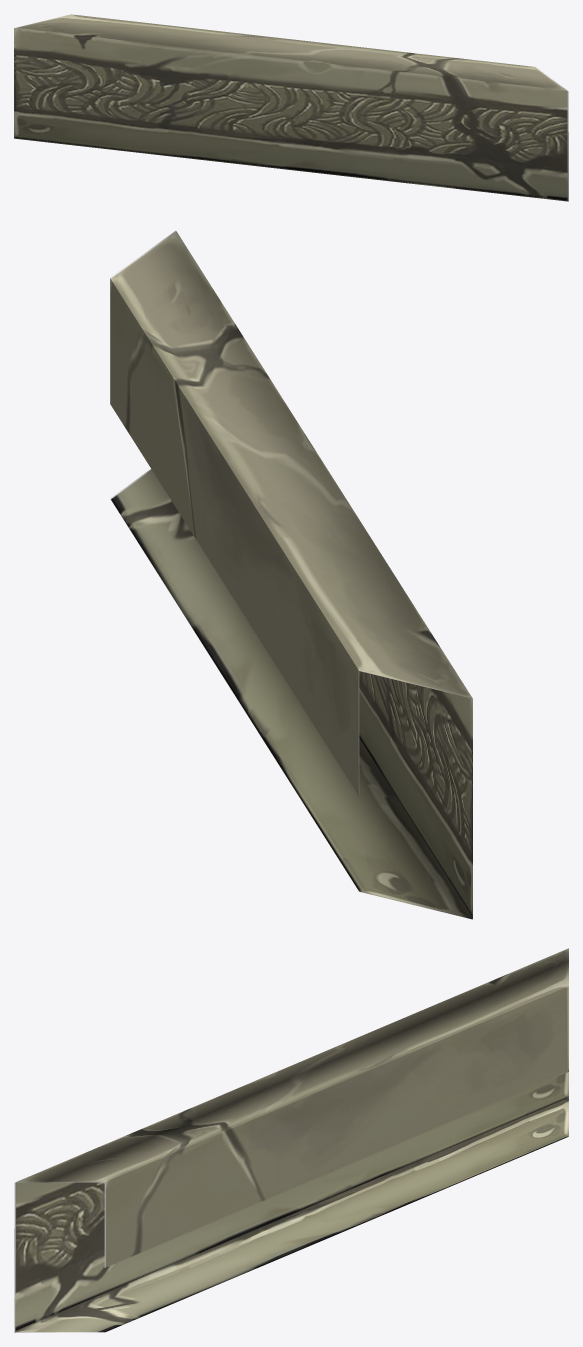
The model's file is wall_diagonal_top4.fbx.
3 renders of one model, top to bottom at view 1: azimuth 30°, elevation 25°; view 2: azimuth 150°, elevation 25°; view 3: azimuth 270°, elevation 25°, orthographic. The views are drawn at different scales.
Parts seen in each view (by area): view 1: diagonal1_v_cap1; view 2: diagonal1_v_cap1; view 3: diagonal1_v_cap1.
Part boxes in pixels (x1,y1,x2,y2): diagonal1_v_cap1: (14, 14, 568, 201); diagonal1_v_cap1: (110, 230, 472, 919); diagonal1_v_cap1: (14, 948, 568, 1332).
Size of the model in its own units: 2.39 by 0.716 by 2.39.
